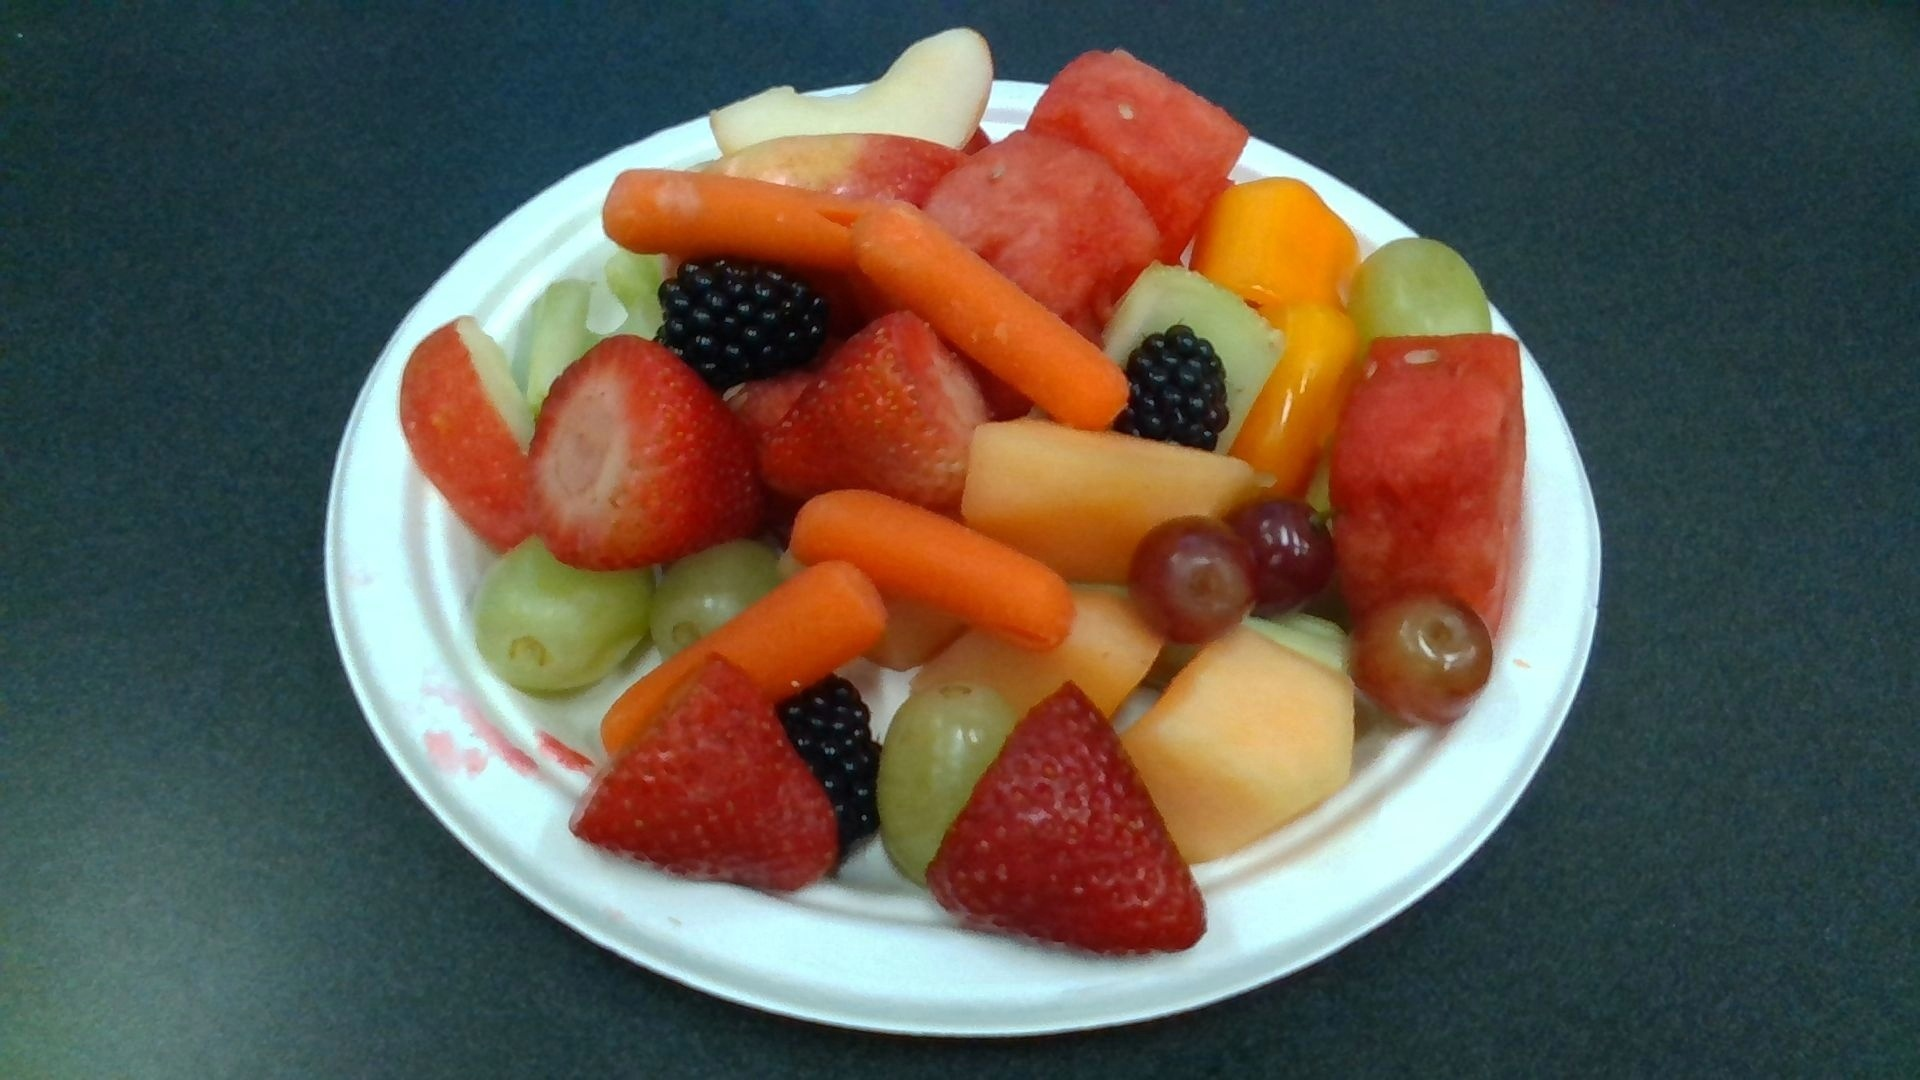apple: (712, 28, 990, 145), (402, 316, 537, 553), (688, 133, 964, 200)
bell_pepper: (1189, 181, 1357, 320)
blackberry: (659, 256, 824, 381), (1120, 331, 1229, 450)
cantalope: (1120, 633, 1354, 865), (963, 419, 1259, 583)
carrot: (857, 200, 1129, 430), (603, 560, 887, 756), (1029, 47, 1244, 258), (793, 491, 1072, 647), (603, 167, 915, 273)
grape_green: (472, 533, 651, 691), (880, 683, 1017, 876), (1352, 240, 1490, 345)
grape_purple: (1345, 591, 1490, 728), (1134, 516, 1255, 640), (1230, 500, 1325, 613)
melon: (1329, 335, 1519, 638), (930, 131, 1182, 345)
strawberry: (927, 680, 1204, 955), (568, 655, 839, 891), (527, 335, 771, 571), (754, 316, 989, 512)
